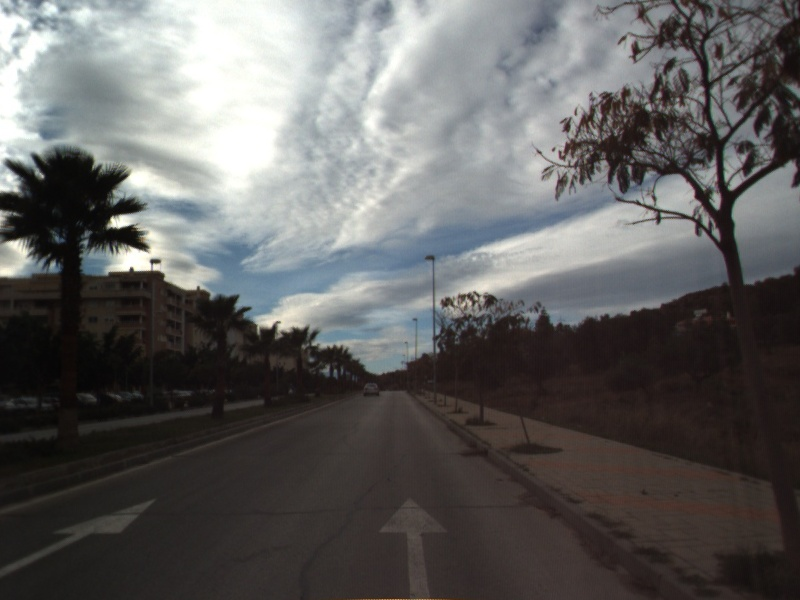STRAIGHT: (1, 495, 162, 579), (376, 494, 451, 600)
